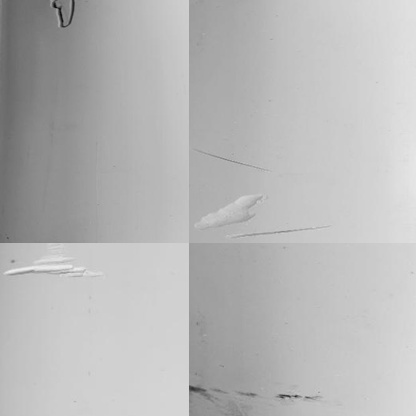fengxi: (51, 1, 82, 31)
sunshang: (3, 249, 108, 284), (194, 191, 267, 234), (196, 149, 270, 173), (232, 225, 335, 240)
